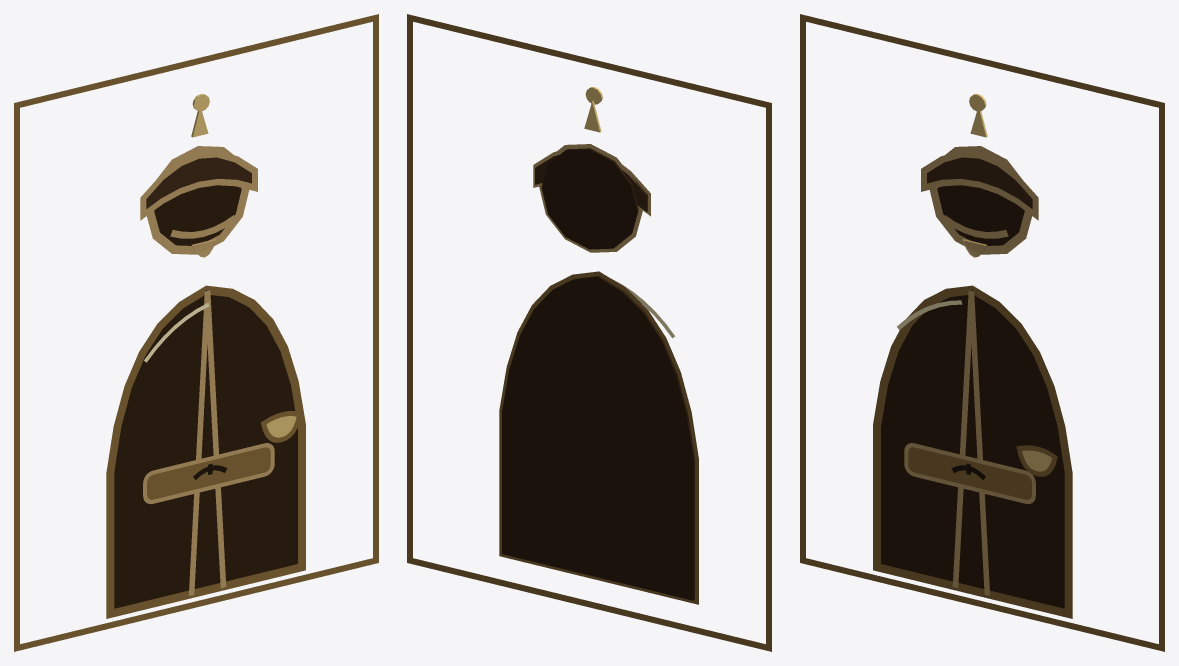
The model's file is npc-khan.glb.
3 views of the same model, side by side, from view 1: azimuth 30°, elevation 25°; view 2: azimuth 150°, elevation 25°; view 3: azimuth 330°, elevation 25° (orthographic).
Parts seen in each view (by area): view 1: npc-khan; view 2: npc-khan; view 3: npc-khan.
Part boxes in pixels (<box>): npc-khan: <box>14,14,378,651</box>; npc-khan: <box>407,14,771,651</box>; npc-khan: <box>800,14,1164,651</box>.
Size of the model in its own units: 1.14 by 1.64 by 0.0904.
